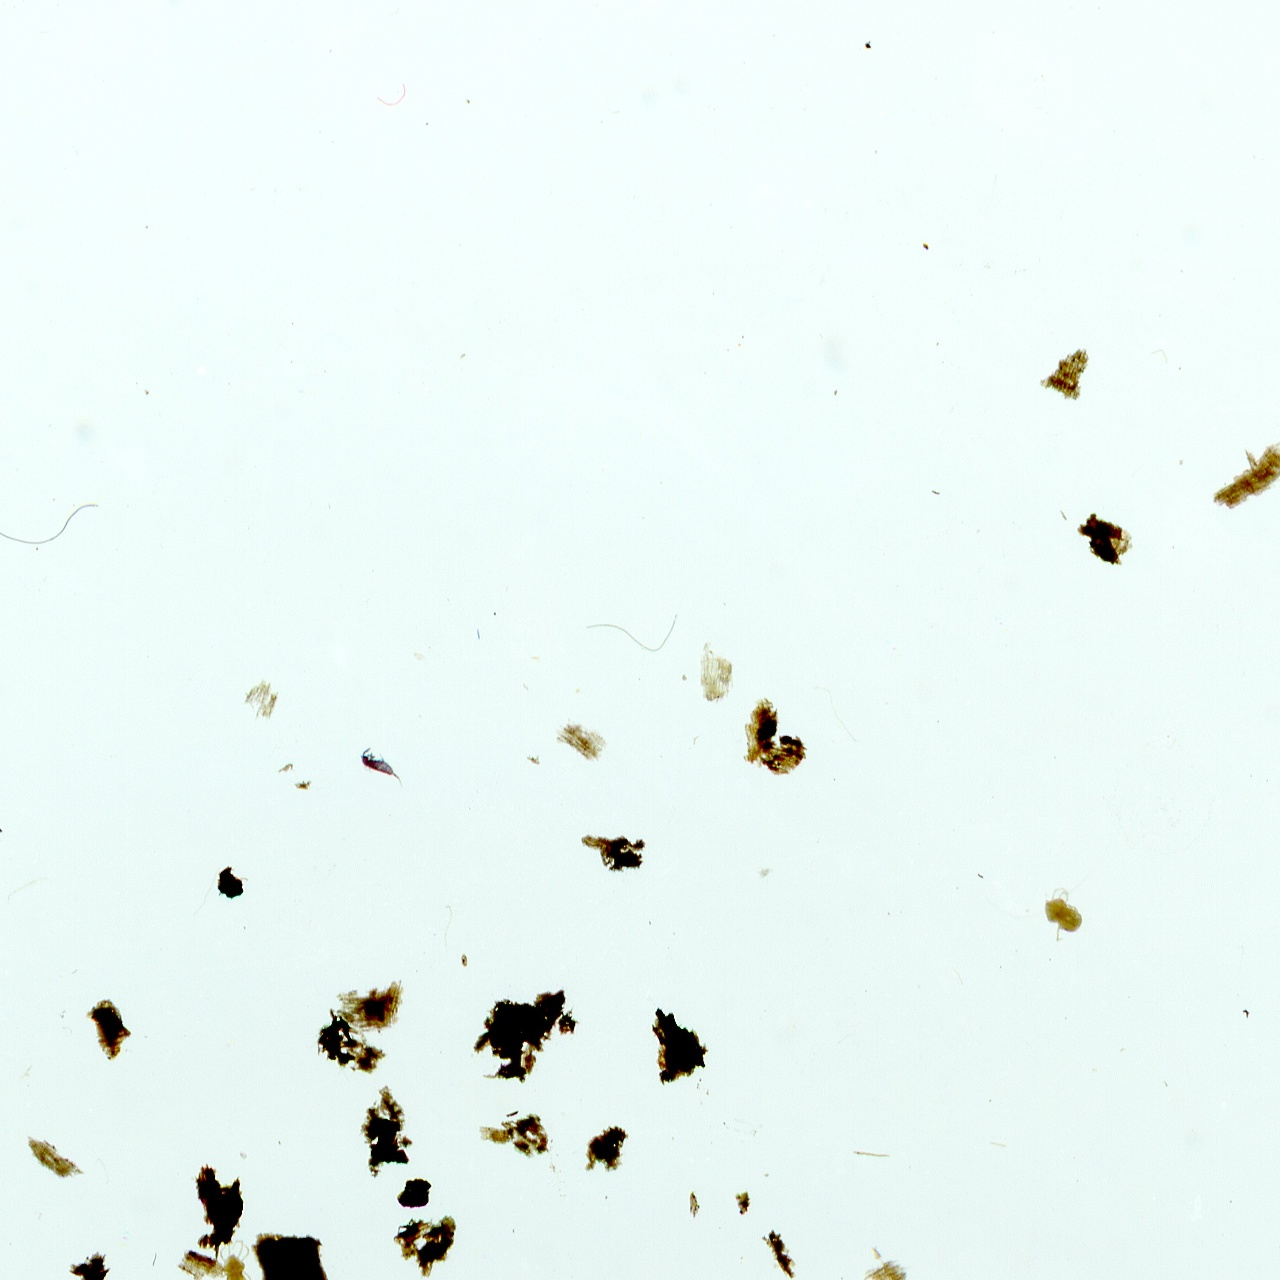arthropod: (1040, 885, 1088, 944), (358, 745, 406, 791), (212, 1234, 254, 1280)
